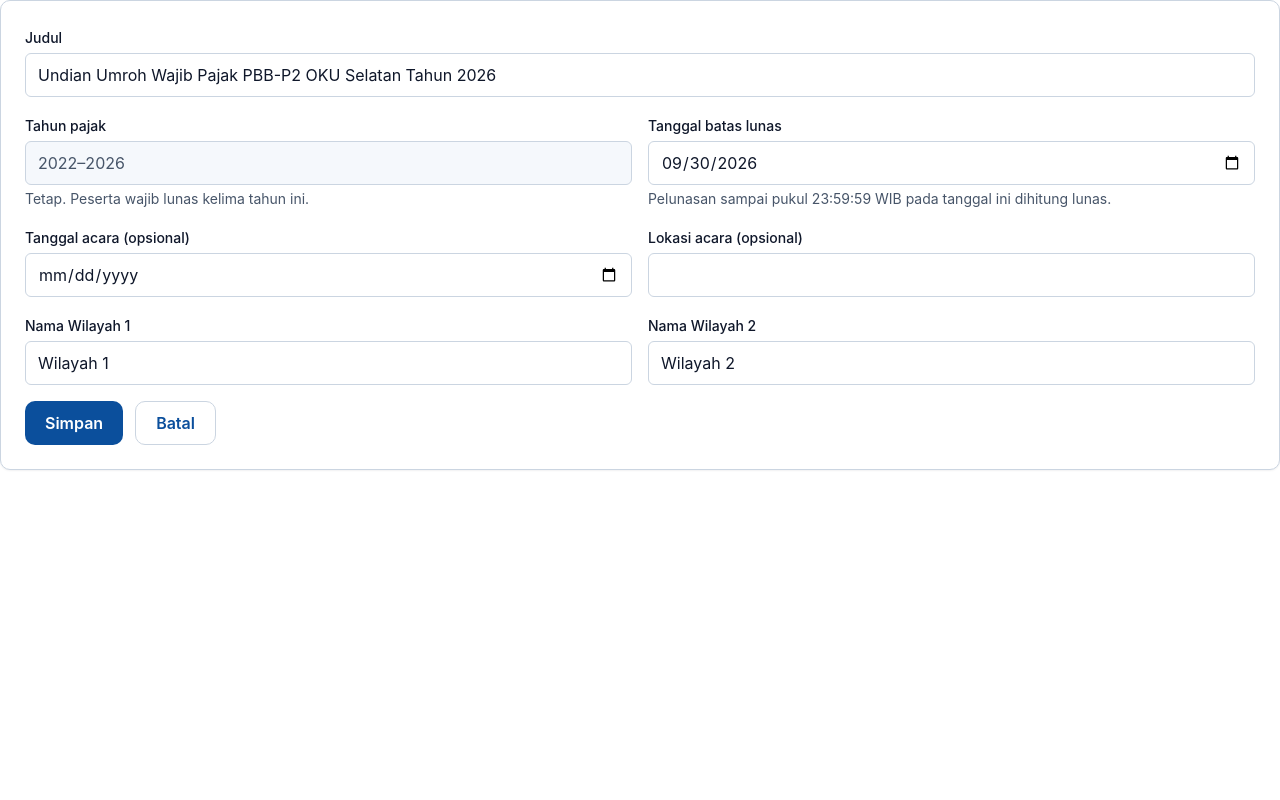
Test: FormPeriode mode buat › menampilkan pesan server bila masih ada periode aktif
Click the button "Simpan". click: (74, 423)
box: [25, 401, 123, 445]
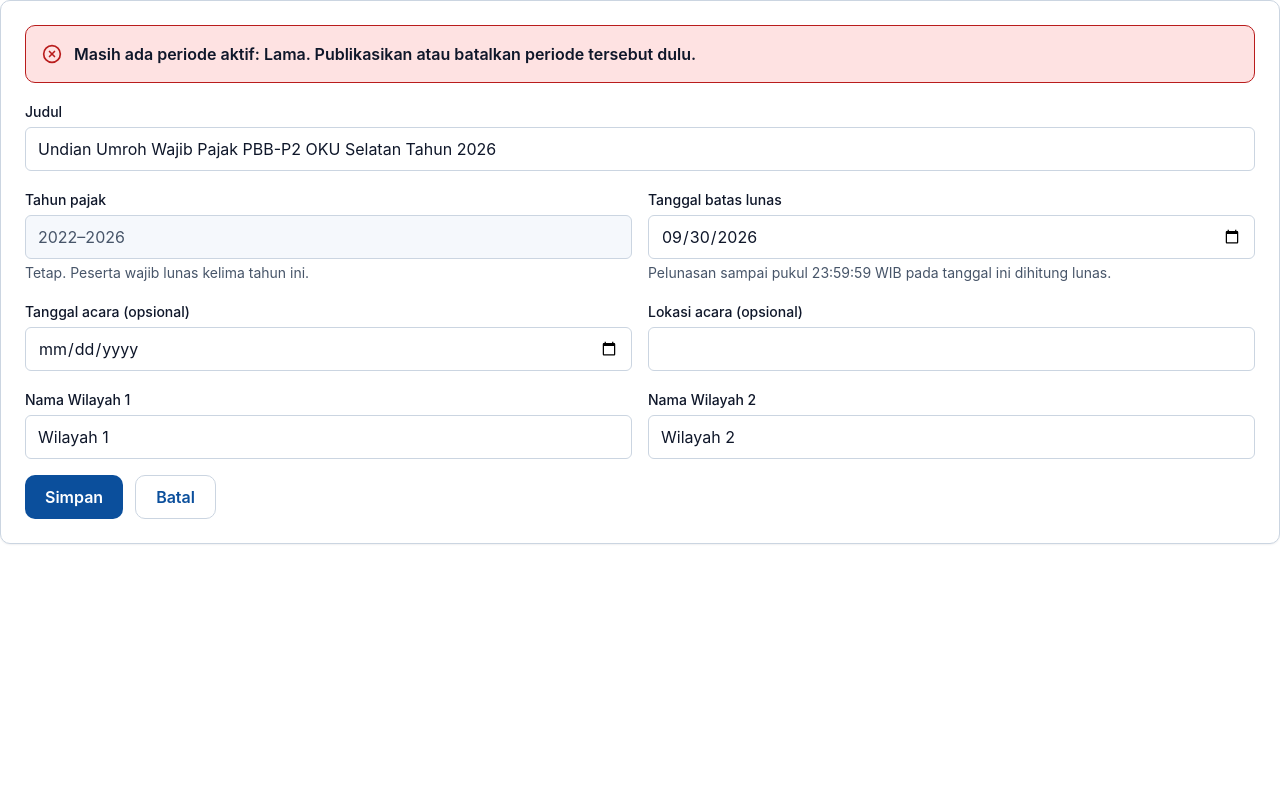
Result: the message shows "Masih ada periode aktif: Lama." at [74, 44, 696, 64]
